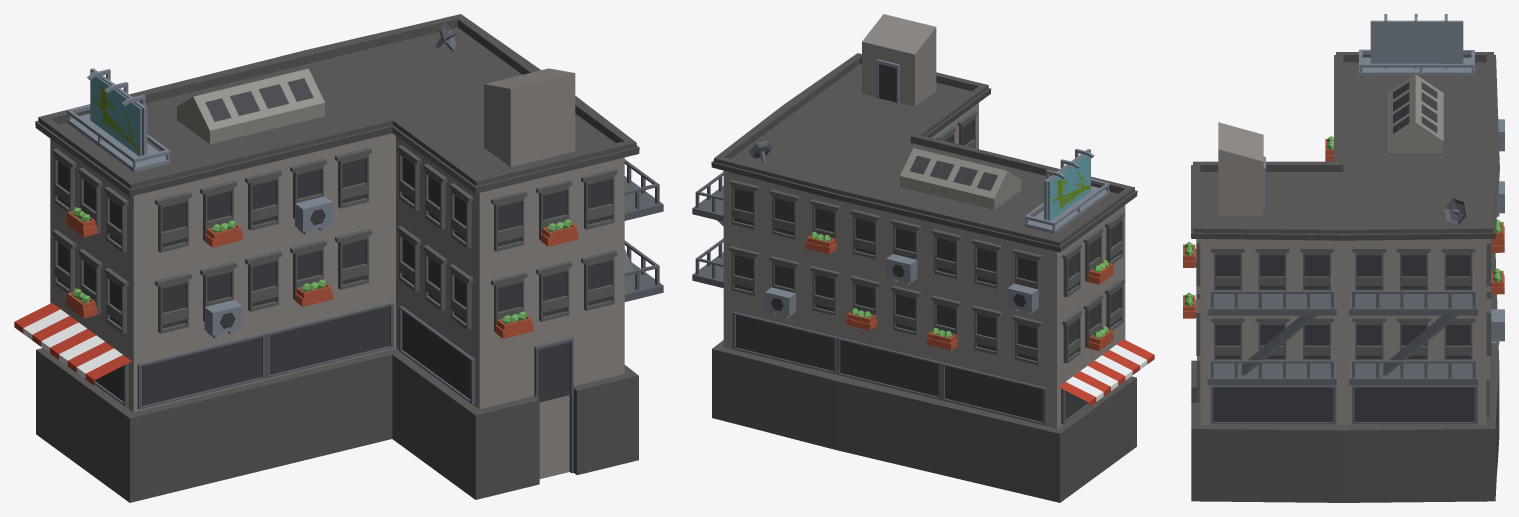
File: Building_House_09.fbx
The picture shows the model from 3 angles, left to right: view 1: azimuth 30°, elevation 25°; view 2: azimuth 150°, elevation 25°; view 3: azimuth 270°, elevation 25°; orthographic projection. The views are drawn at different scales.
Visible parts, largest first — view 1: Building_House_09; view 2: Building_House_09; view 3: Building_House_09.
Boxes of the visible parts, left/top/right/bottom form: Building_House_09: left=14, top=14, right=663, bottom=502; Building_House_09: left=692, top=14, right=1154, bottom=502; Building_House_09: left=1183, top=14, right=1504, bottom=502.
Bounding box in the file's own units: 2138 × 1621 × 1424.
